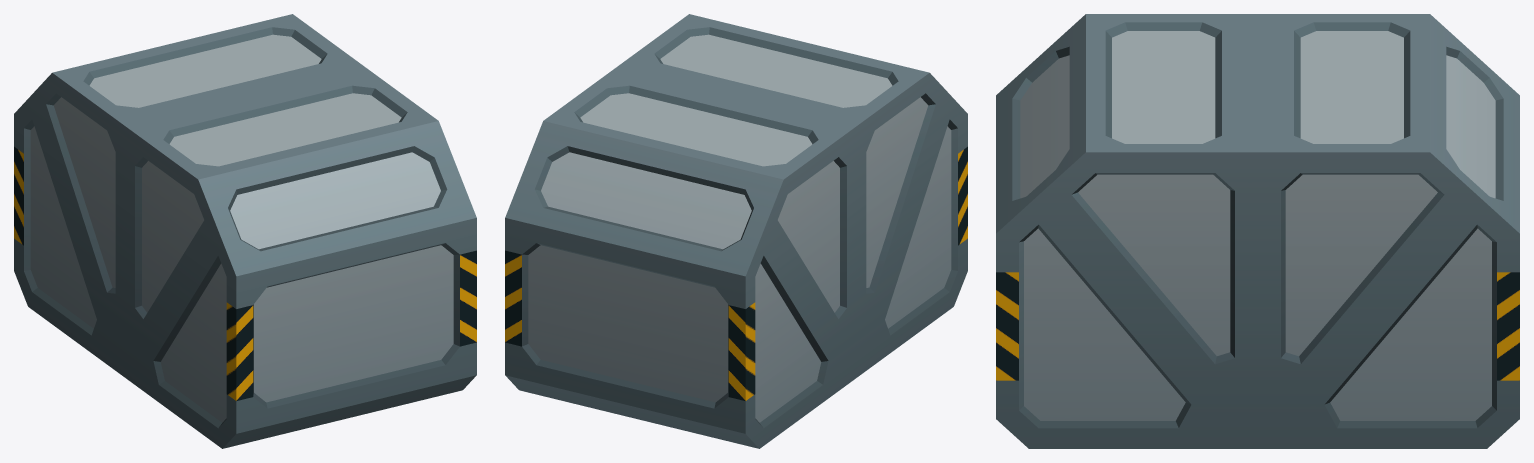
The model's file is Cargo_drone_003_cantainer_001.fbx.
3 views of the same model, side by side, from view 1: azimuth 30°, elevation 25°; view 2: azimuth 150°, elevation 25°; view 3: azimuth 270°, elevation 25° (orthographic). The views are drawn at different scales.
Visible parts, largest first — view 1: Cargo_drone_003_cantainer_001; view 2: Cargo_drone_003_cantainer_001; view 3: Cargo_drone_003_cantainer_001.
Boxes of the visible parts, box(x1,y1,x2,y2) form: Cargo_drone_003_cantainer_001: box(14, 14, 476, 448); Cargo_drone_003_cantainer_001: box(505, 14, 967, 448); Cargo_drone_003_cantainer_001: box(996, 14, 1519, 448).
Bounding box in the file's own units: 100 × 160 × 100.
